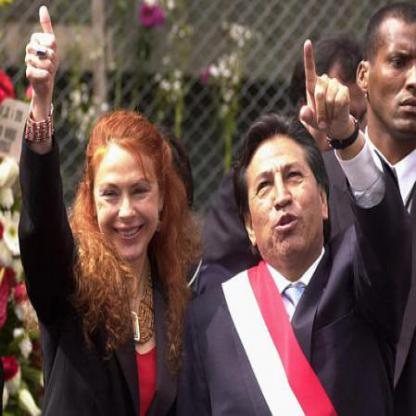face: (245, 122, 322, 263), (95, 125, 162, 259)
